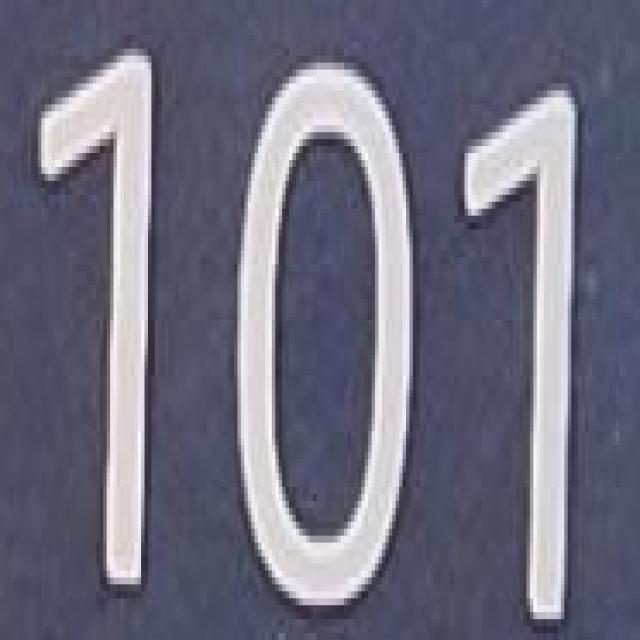character: (227, 36, 418, 625), (455, 61, 587, 640), (34, 29, 165, 602)
